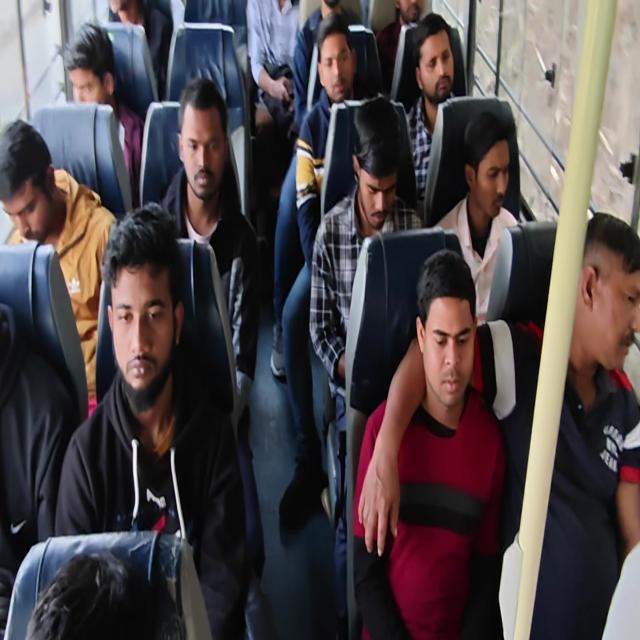person: (2, 1, 638, 638), (363, 211, 639, 638), (54, 202, 248, 638), (308, 93, 423, 636), (352, 248, 506, 638), (501, 211, 639, 638), (278, 12, 362, 526), (159, 75, 260, 432), (0, 118, 118, 416), (431, 110, 519, 327), (294, 12, 360, 270), (64, 22, 144, 206), (25, 548, 186, 638), (404, 12, 456, 212), (106, 0, 184, 101), (246, 0, 301, 132), (292, 0, 344, 131), (375, 0, 425, 108)
